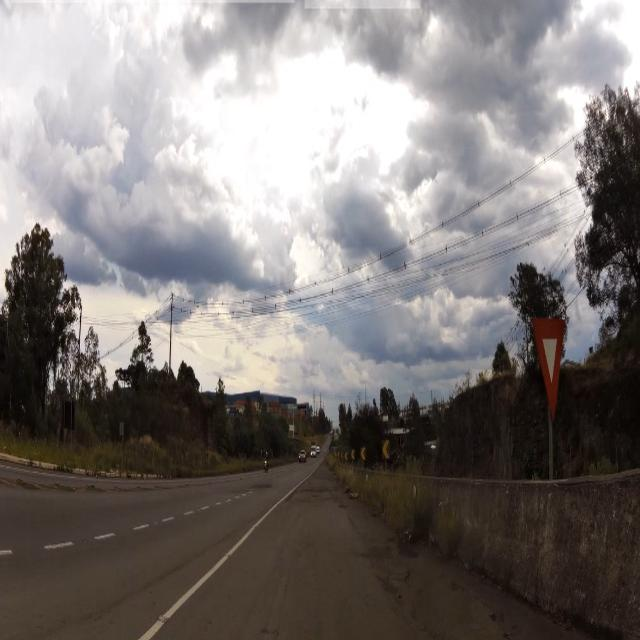R-7: (530, 312, 569, 417)
